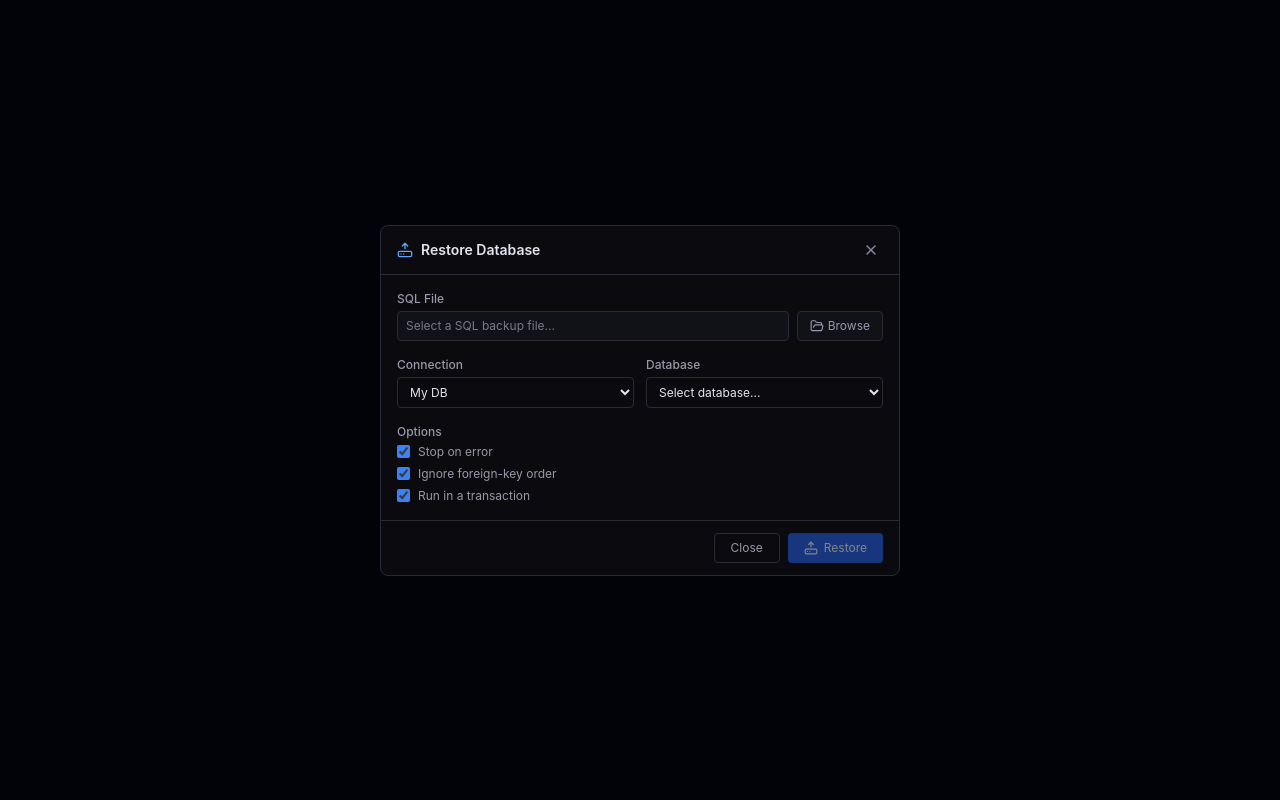
RestoreDialog › choosing a file › reads only the head of it for the preview
The width and height of the screenshot is (1280, 800).
What coordinates should you click on to do the following:
click the button "Browse"
I would click on:
 (840, 326)
Its box is [797,310,883,340].
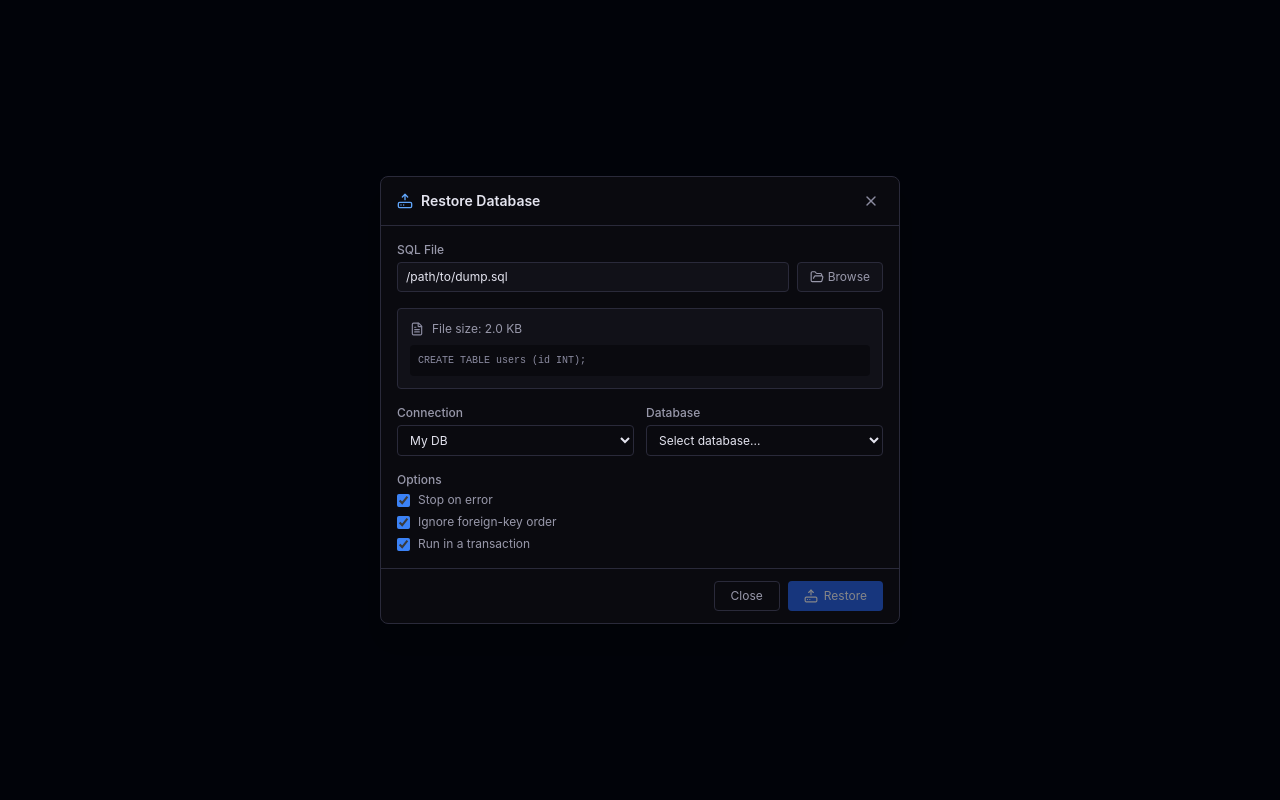
Expected: the text "File size: 2.0 KB" is shown, [432,321,522,337]
